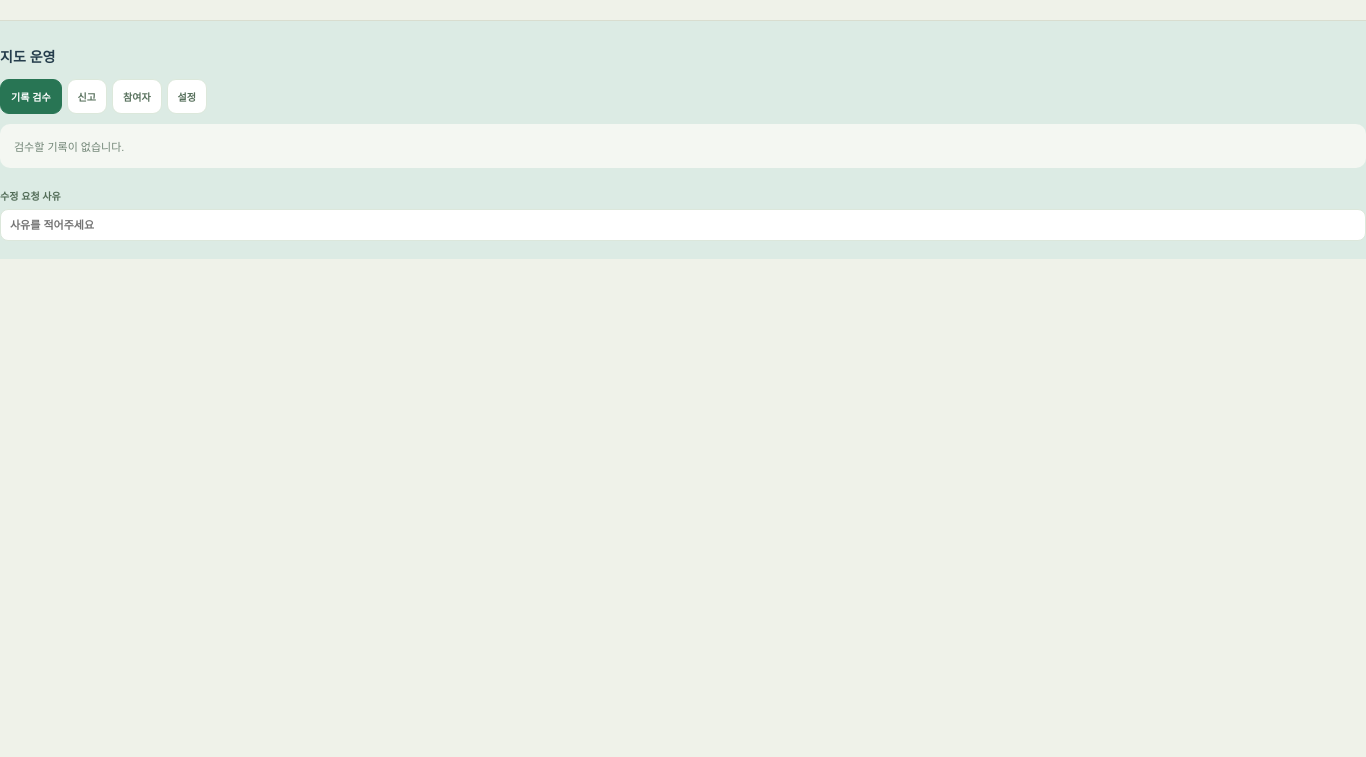
owner contribution sharing settings › keeps registration suspension separate from sharing and only exposes sharing controls to the owner
The width and height of the screenshot is (1366, 757).
Click the button "설정" at point(187, 96), box [167,79,207,114]
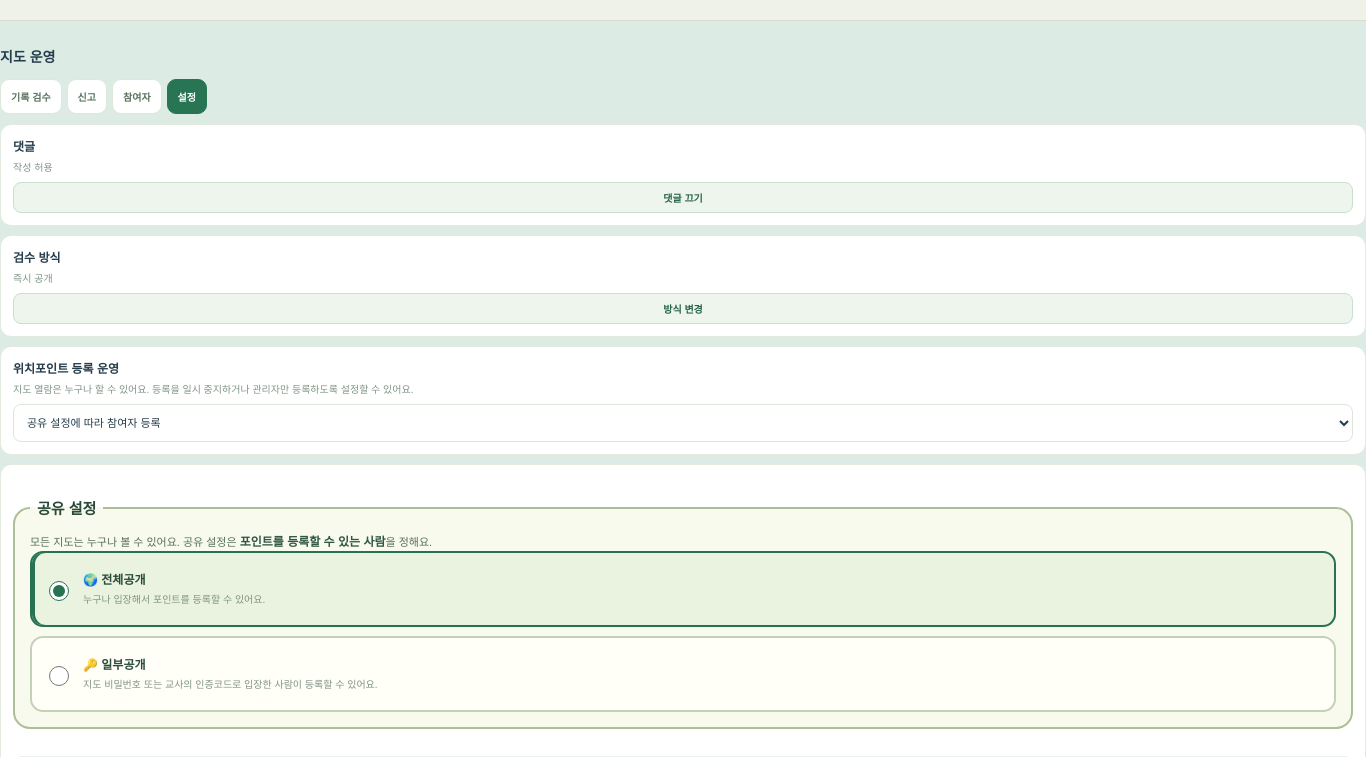
Select "등록 마감" in the dropdown named "위치포인트 등록 운영" at point(683, 423), box [13,404,1353,442]
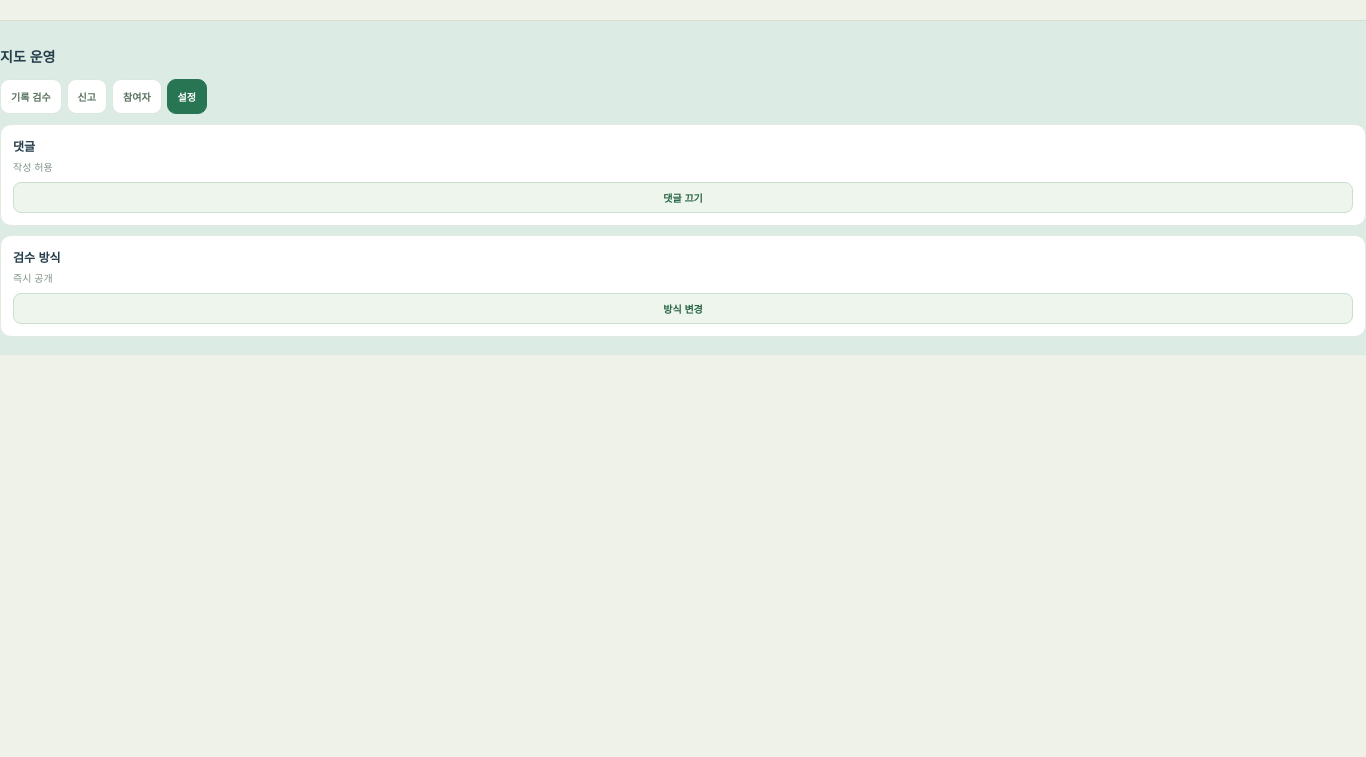
Check: the radio button is gone
